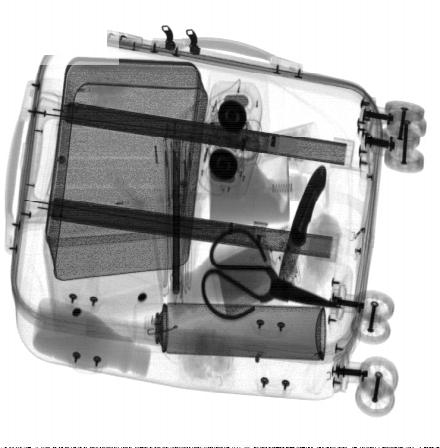Knife: (277, 165, 326, 301)
Powerbank: (208, 221, 303, 326)
Scissors: (200, 227, 348, 323)
Sprayer: (132, 305, 326, 361)
